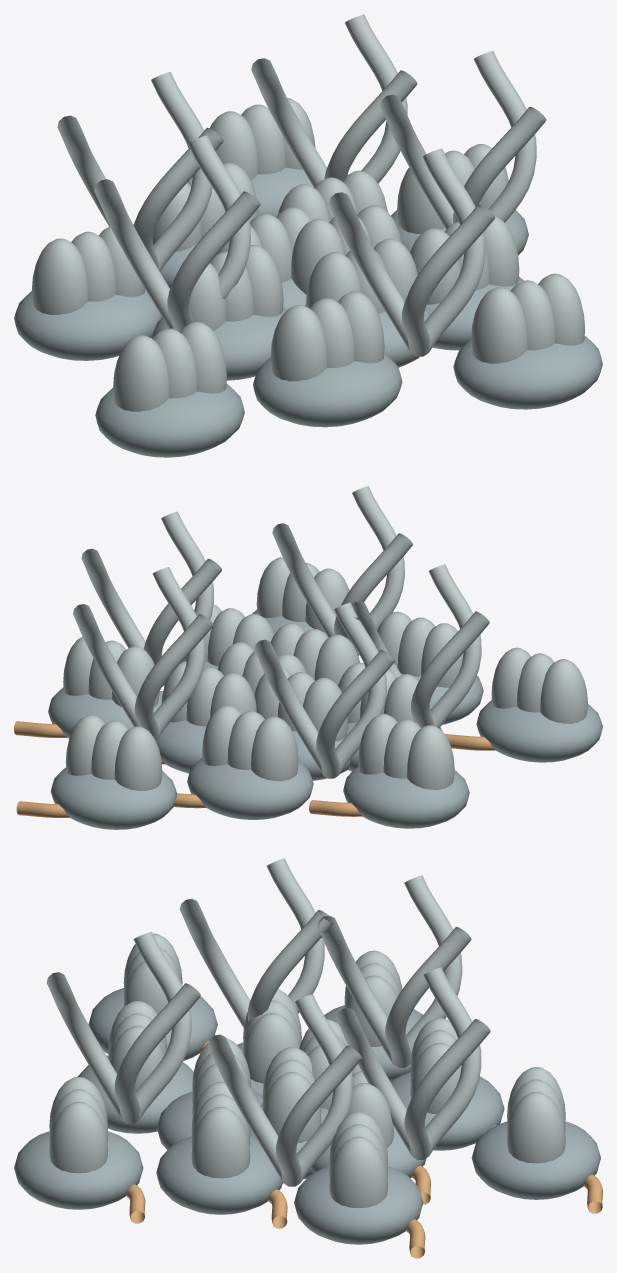
The model's file is bio_acid_mat_19_near.glb.
The picture shows the model from 3 angles, top to bottom: view 1: azimuth 30°, elevation 25°; view 2: azimuth 150°, elevation 25°; view 3: azimuth 270°, elevation 25°; orthographic projection. The views are drawn at different scales.
Visible parts, largest first — view 1: Spiral filament.006, Spiral filament.012, Spiral filament, Spiral filament.009, Spiral filament.003, Reaction vesicle.036, Reaction vesicle.030, Reaction vesicle.021, Microbial cushion.012, Microbial cushion.010, Microbial cushion.007, Microbial cushion.009 (+15 smaller); view 2: Spiral filament.009, Spiral filament.003, Spiral filament.006, Spiral filament.012, Spiral filament, Reaction vesicle.036, Reaction vesicle.018, Reaction vesicle.027, Reaction vesicle.033, Microbial cushion.011, Microbial cushion.012, Microbial cushion.009 (+18 smaller); view 3: Spiral filament.006, Spiral filament, Spiral filament.009, Spiral filament.003, Spiral filament.012, Microbial cushion.011, Microbial cushion.008, Microbial cushion.010, Microbial cushion.005, Reaction vesicle.033, Reaction vesicle.030, Reaction vesicle.024 (+20 smaller).
Part boxes in pixels (bbox=[...]): Spiral filament.006: bbox=[329, 148, 494, 356]; Spiral filament.012: bbox=[94, 135, 260, 331]; Spiral filament: bbox=[380, 51, 546, 229]; Spiral filament.009: bbox=[251, 14, 417, 187]; Spiral filament.003: bbox=[57, 72, 223, 271]; Reaction vesicle.036: bbox=[113, 321, 226, 411]; Reaction vesicle.030: bbox=[471, 273, 584, 363]; Reaction vesicle.021: bbox=[270, 291, 384, 381]; Microbial cushion.012: bbox=[95, 384, 244, 457]; Microbial cushion.010: bbox=[453, 336, 602, 409]; Microbial cushion.007: bbox=[253, 353, 402, 427]; Microbial cushion.009: bbox=[14, 289, 162, 360]; Spiral filament.009: bbox=[73, 567, 213, 740]; Spiral filament.003: bbox=[254, 602, 394, 778]; Spiral filament.006: bbox=[272, 486, 412, 655]; Spiral filament.012: bbox=[352, 564, 489, 728]; Spiral filament: bbox=[81, 511, 221, 686]; Reaction vesicle.036: bbox=[491, 647, 587, 723]; Reaction vesicle.018: bbox=[202, 705, 298, 781]; Reaction vesicle.027: bbox=[358, 713, 454, 789]; Reaction vesicle.033: bbox=[65, 715, 162, 790]; Microbial cushion.011: bbox=[50, 767, 177, 829]; Microbial cushion.012: bbox=[476, 700, 602, 762]; Microbial cushion.009: bbox=[343, 766, 469, 828]; Spiral filament.006: bbox=[46, 931, 200, 1124]; Spiral filament: bbox=[208, 994, 361, 1186]; Spiral filament.009: bbox=[336, 967, 490, 1159]; Spiral filament.003: bbox=[317, 875, 471, 1067]; Spiral filament.012: bbox=[179, 858, 333, 1027]; Microbial cushion.011: bbox=[471, 1121, 600, 1199]; Microbial cushion.008: bbox=[294, 1166, 423, 1244]; Microbial cushion.010: bbox=[14, 1131, 143, 1209]; Microbial cushion.005: bbox=[156, 1136, 282, 1214]; Reaction vesicle.033: bbox=[507, 1067, 565, 1163]; Reaction vesicle.030: bbox=[49, 1077, 108, 1173]; Reaction vesicle.024: bbox=[329, 1111, 387, 1208].
Size of the model in its own units: 1.97 by 0.7414 by 2.
